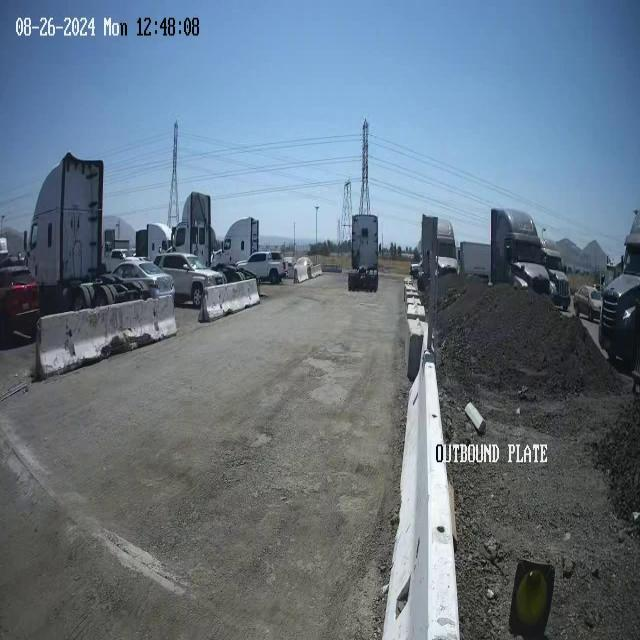TRUCK_IN: (346, 205, 379, 299)
